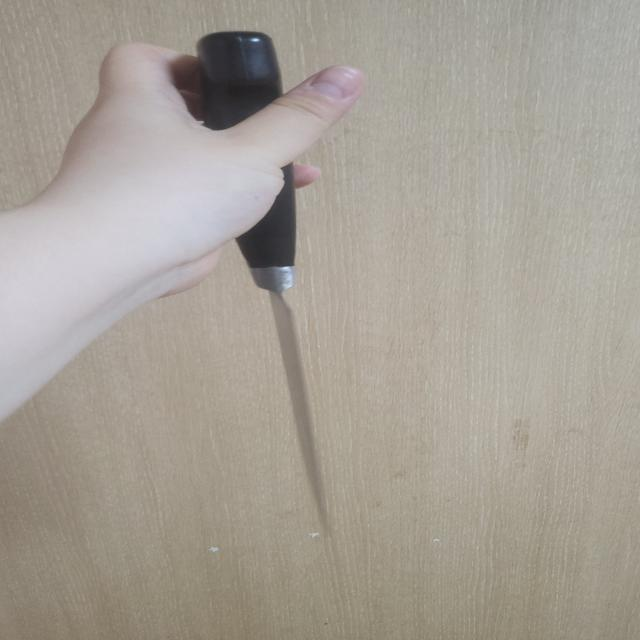knife: (197, 31, 328, 534)
